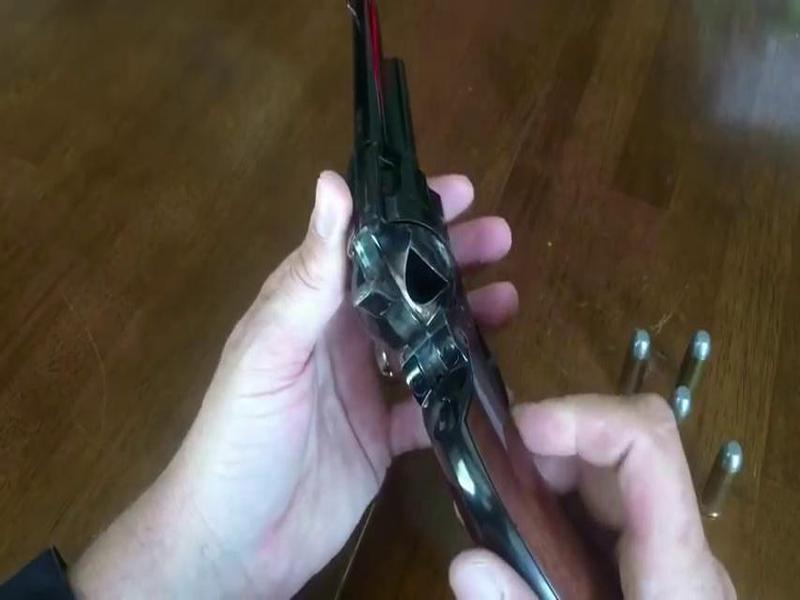Revolver: (325, 12, 577, 600)
